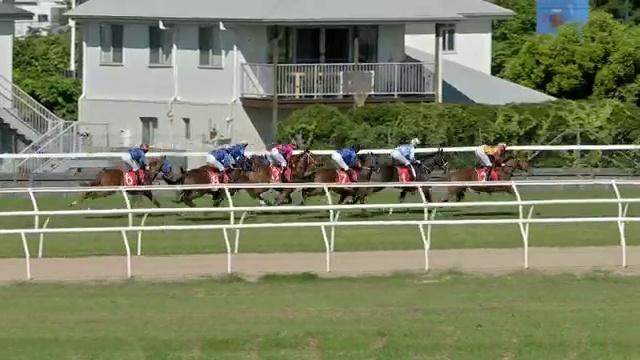racing-horse: (66, 135, 176, 223), (435, 140, 537, 223), (343, 135, 451, 212), (287, 142, 384, 222), (179, 128, 272, 211), (233, 135, 326, 213), (163, 142, 254, 218), (206, 135, 293, 207)
